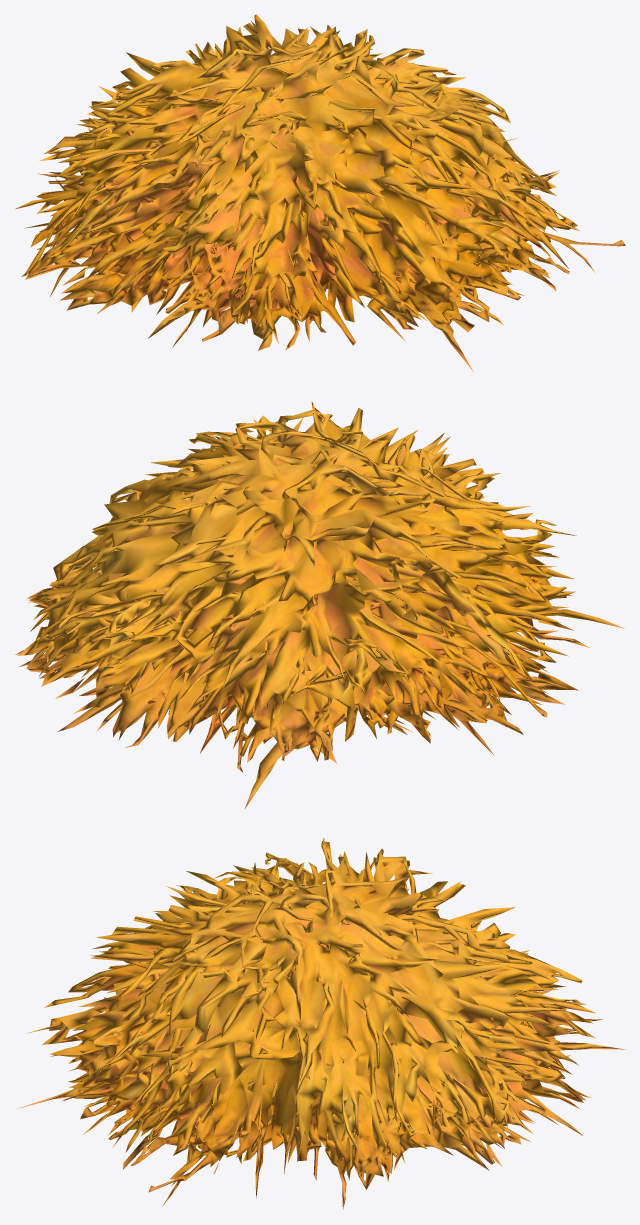
Rendered from haystack.glb.
The picture shows the model from 3 angles, top to bottom: view 1: azimuth 30°, elevation 25°; view 2: azimuth 150°, elevation 25°; view 3: azimuth 270°, elevation 25°; orthographic projection. The views are drawn at different scales.
Visible parts, largest first — view 1: model; view 2: model; view 3: model.
Boxes of the visible parts, x1,y1,x2,y2 form: model: [15, 14, 625, 371]; model: [15, 401, 624, 808]; model: [17, 838, 625, 1209].
Bounding box in the file's own units: 1.74 × 0.7755 × 1.82.
1 material, 1 textured.
